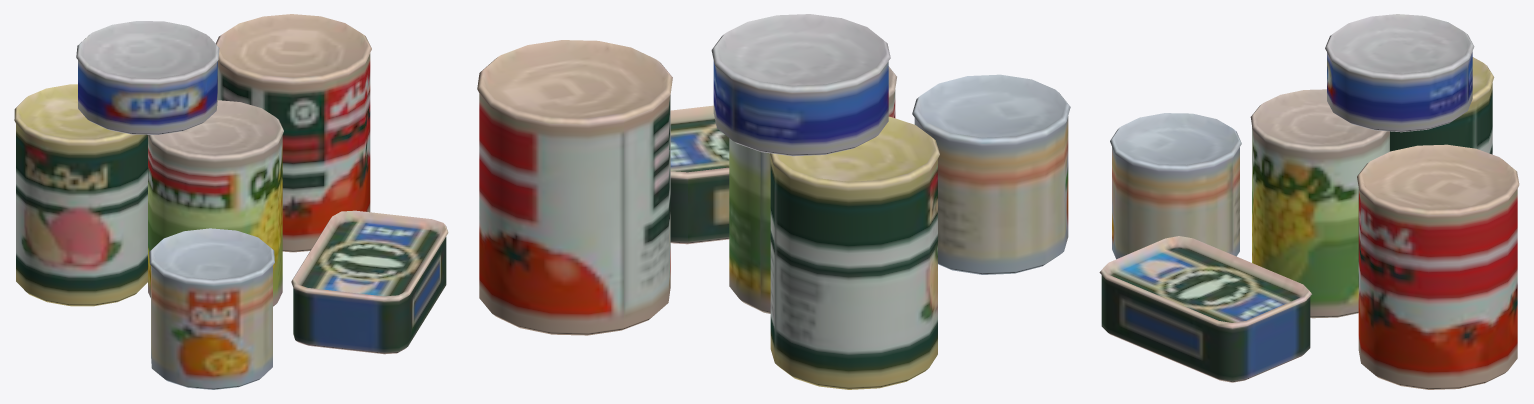
3 renders of one model, left to right at view 1: azimuth 30°, elevation 25°; view 2: azimuth 150°, elevation 25°; view 3: azimuth 270°, elevation 25°, orthographic. The views are drawn at different scales.
Size of the model in its own units: 7.81 by 4.86 by 7.97.
1 material, 1 textured.
